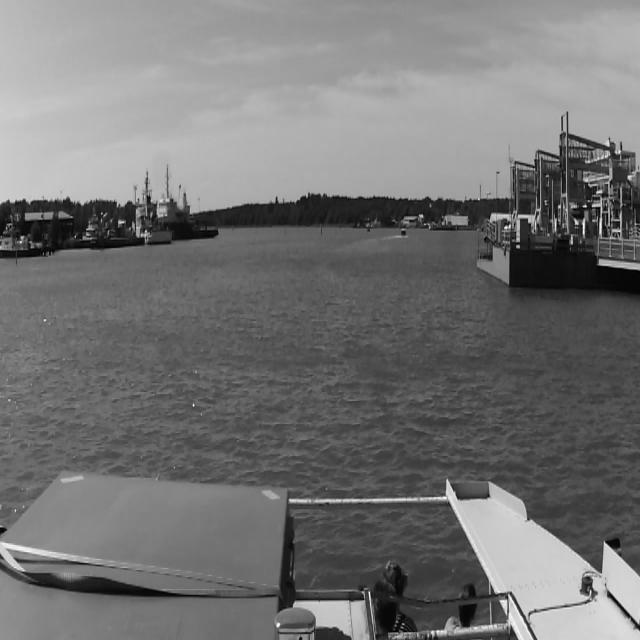buoy: (319, 220, 323, 238)
ship: (126, 164, 173, 249), (150, 162, 200, 228), (399, 225, 407, 239)
